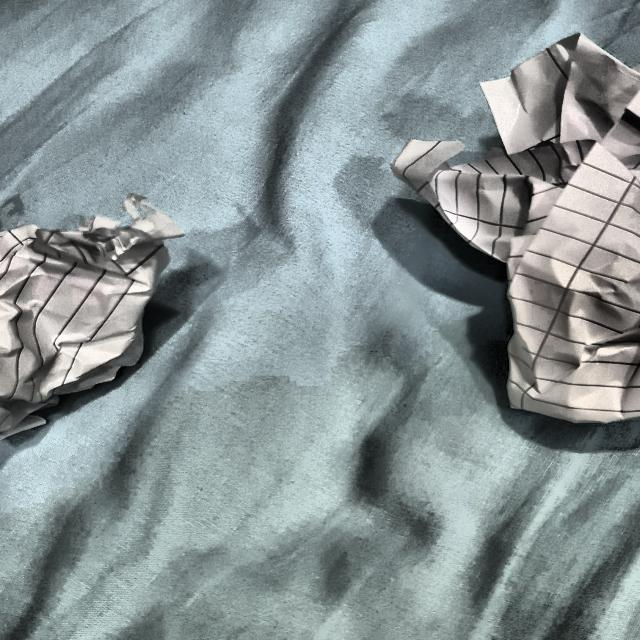paper: (400, 46, 640, 433), (0, 188, 198, 510)
